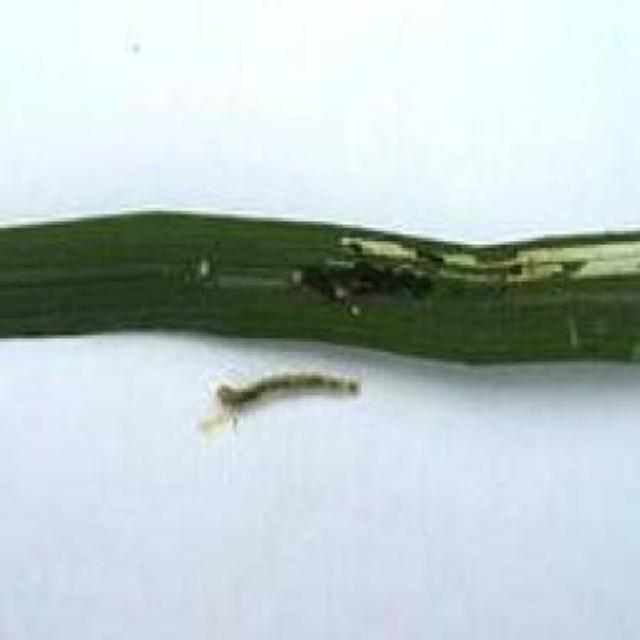leaf-folder: (189, 354, 371, 428)
